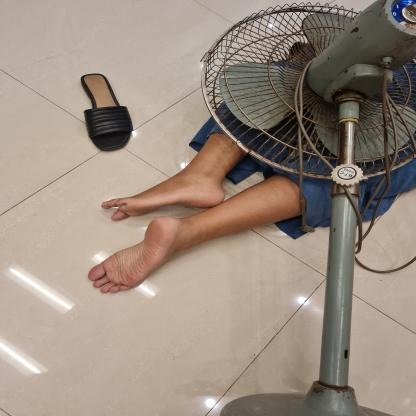leg: (82, 171, 294, 297), (95, 131, 243, 228)
